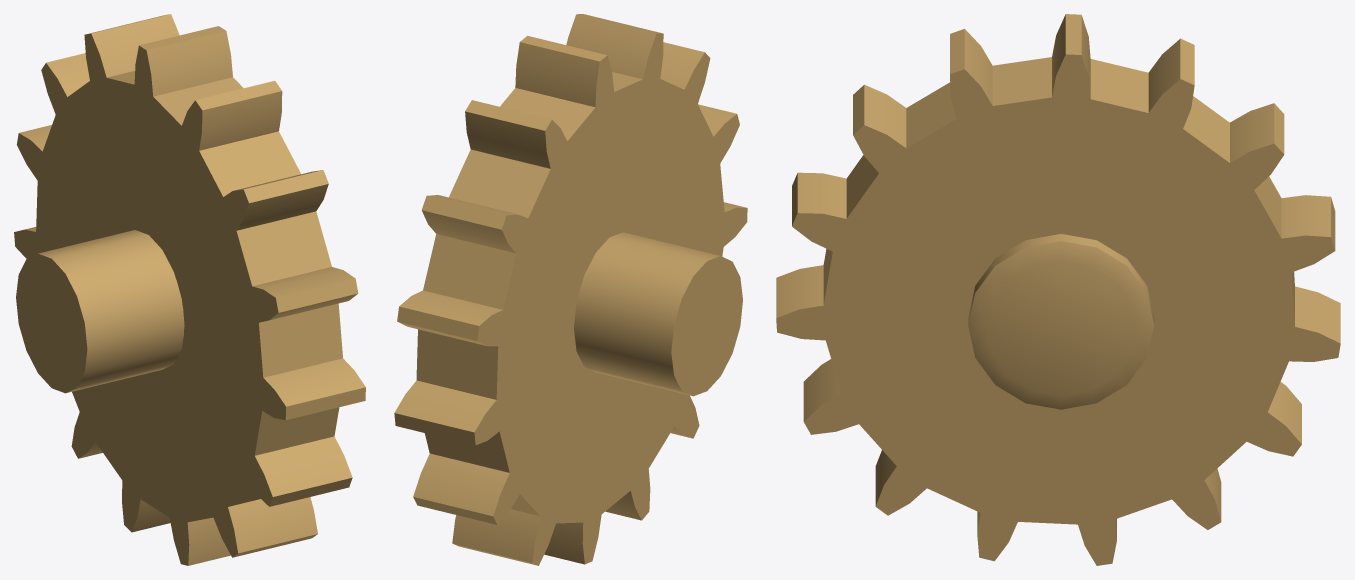
File: balance.fbx
3 renders of one model, left to right at view 1: azimuth 30°, elevation 25°; view 2: azimuth 150°, elevation 25°; view 3: azimuth 270°, elevation 25°, orthographic. The views are drawn at different scales.
Parts seen in each view (by area): view 1: écrou_1; view 2: écrou_1; view 3: écrou_1.
Boxes of the visible parts, left/top/right/bottom form: écrou_1: left=14, top=14, right=365, bottom=565; écrou_1: left=394, top=14, right=747, bottom=565; écrou_1: left=776, top=14, right=1340, bottom=565.
Bounding box in the file's own units: 1.06 × 2.36 × 2.36.
